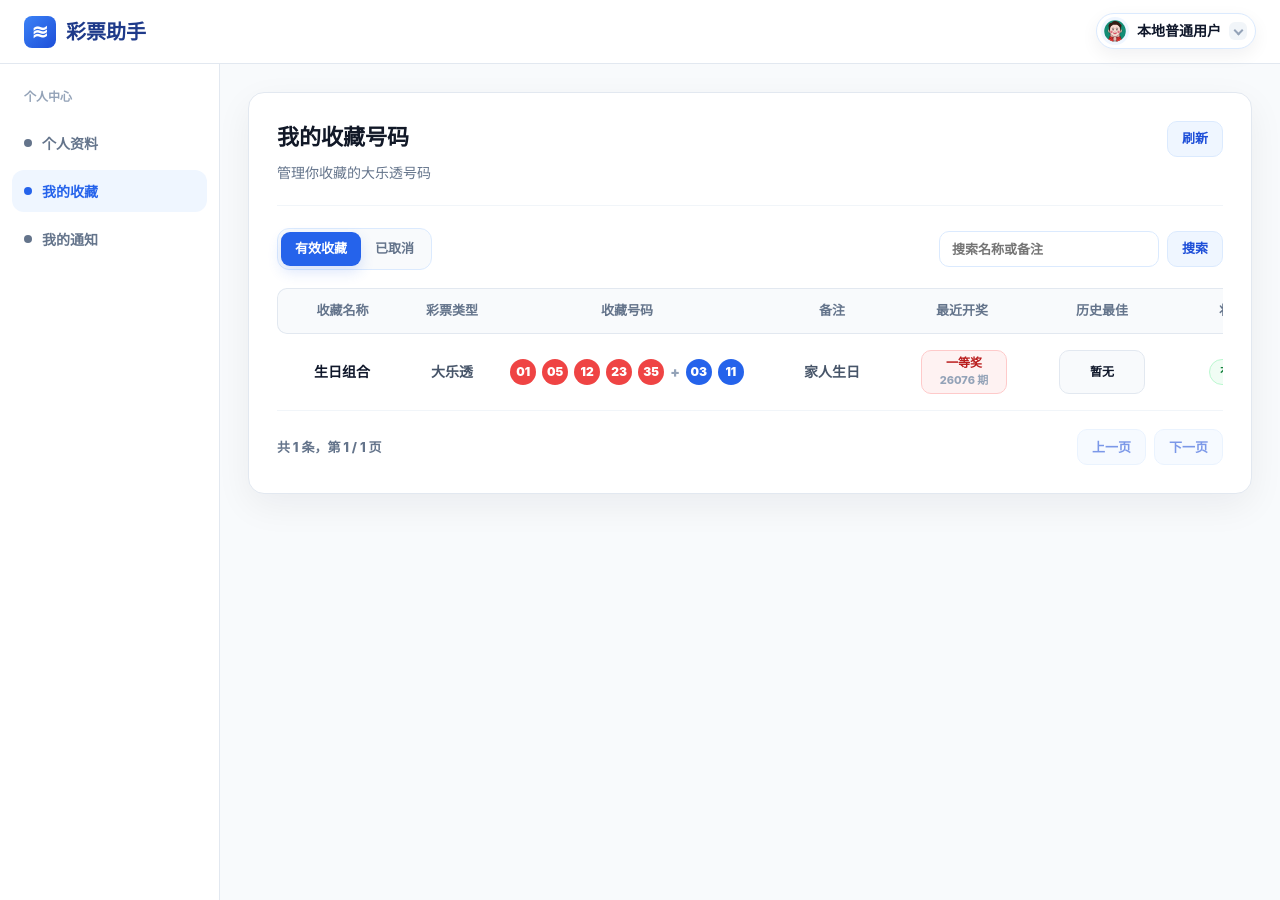
FavoritesView › opens favorite draw history drawer from the latest result
This screenshot has width=1280, height=900.
Click the button with test id "open-favorite-history" at coordinates (964, 372), box x1=921 y1=350 x2=1007 y2=394
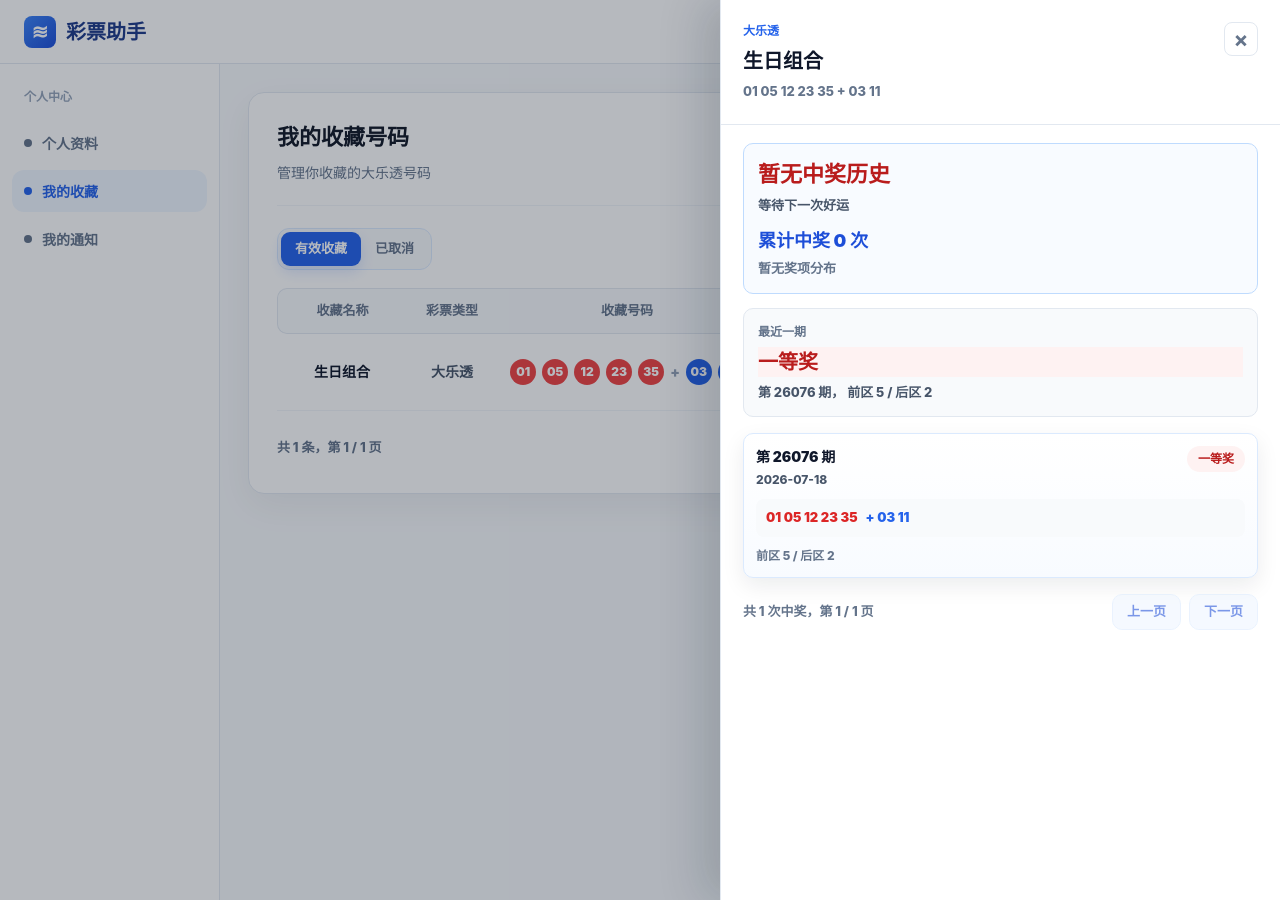
Result: the dialog with class "favorite-history-drawer" is shown at x1=720 y1=0 x2=1279 y2=899
Result: the dialog with class "favorite-history-drawer" shows "生日组合" at x1=743 y1=49 x2=823 y2=73
Result: the dialog with class "favorite-history-drawer" shows "第 26076 期" at x1=756 y1=448 x2=835 y2=465
